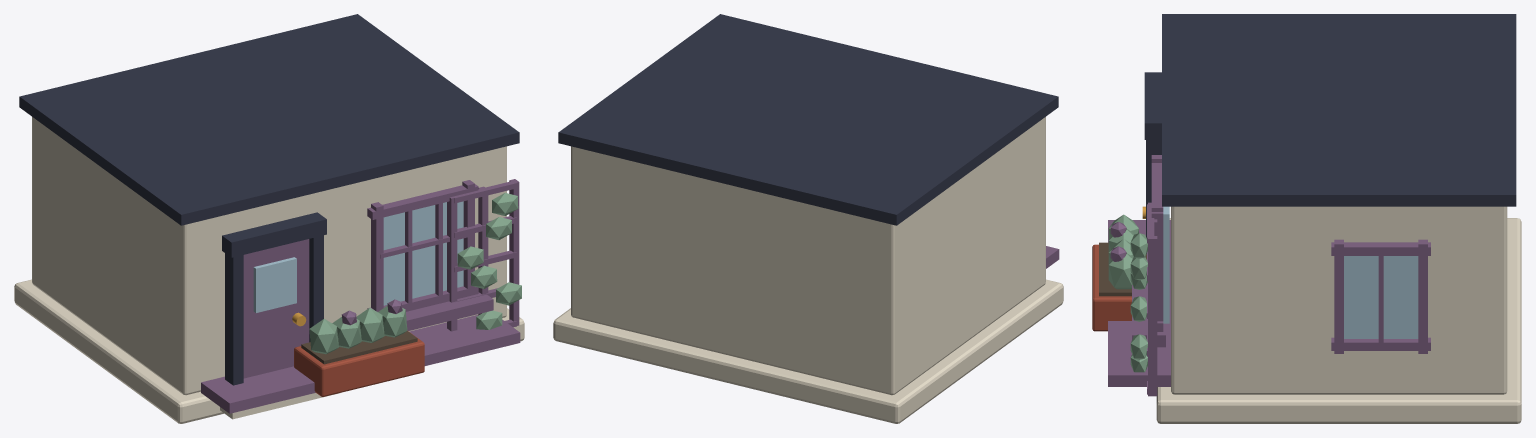
File: base_house_gardens_0.glb
3 views of the same model, side by side, from view 1: azimuth 30°, elevation 25°; view 2: azimuth 150°, elevation 25°; view 3: azimuth 270°, elevation 25° (orthographic). The views are drawn at different scales.
Parts seen in each view (by area): view 1: base_house_gardens_0 ink, base_house_gardens_0 mist, base_house_gardens_0 patina, base_house_gardens_0 glass, base_house_gardens_0 clay, base_house_gardens_0 pine, base_house_gardens_0 leaf, base_house_gardens_0 soil; view 2: base_house_gardens_0 mist, base_house_gardens_0 ink; view 3: base_house_gardens_0 ink, base_house_gardens_0 mist, base_house_gardens_0 patina, base_house_gardens_0 glass, base_house_gardens_0 pine, base_house_gardens_0 clay, base_house_gardens_0 soil, base_house_gardens_0 leaf, base_house_gardens_0 plum.
Boxes of the visible parts, x1,y1,x2,y2 form: base_house_gardens_0 ink: [19, 14, 519, 385]; base_house_gardens_0 mist: [14, 117, 524, 423]; base_house_gardens_0 patina: [201, 179, 520, 413]; base_house_gardens_0 glass: [253, 201, 463, 312]; base_house_gardens_0 clay: [294, 330, 424, 396]; base_house_gardens_0 pine: [332, 193, 521, 348]; base_house_gardens_0 leaf: [309, 307, 384, 354]; base_house_gardens_0 soil: [301, 331, 417, 364]; base_house_gardens_0 mist: [553, 117, 1063, 423]; base_house_gardens_0 ink: [558, 14, 1058, 225]; base_house_gardens_0 ink: [1144, 14, 1516, 253]; base_house_gardens_0 mist: [1156, 206, 1521, 423]; base_house_gardens_0 patina: [1108, 155, 1430, 396]; base_house_gardens_0 glass: [1163, 206, 1418, 338]; base_house_gardens_0 pine: [1108, 229, 1147, 372]; base_house_gardens_0 clay: [1092, 244, 1131, 331]; base_house_gardens_0 soil: [1099, 242, 1146, 296]; base_house_gardens_0 leaf: [1108, 214, 1138, 264]; base_house_gardens_0 plum: [1110, 222, 1126, 261].
Size of the model in its own units: 0.8445 by 0.48 by 0.8175.
